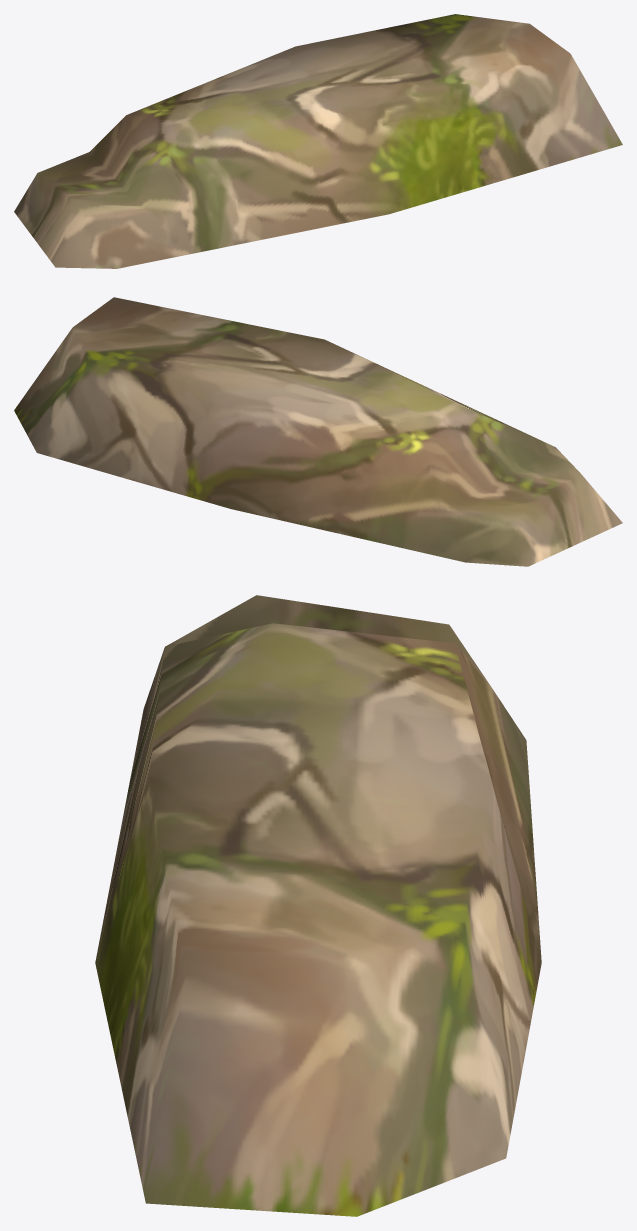
File: gjs_shitou02.FBX
The picture shows the model from 3 angles, top to bottom: view 1: azimuth 30°, elevation 25°; view 2: azimuth 150°, elevation 25°; view 3: azimuth 270°, elevation 25°; orthographic projection. The views are drawn at different scales.
Visible parts, largest first — view 1: shitou02; view 2: shitou02; view 3: shitou02.
Boxes of the visible parts, x1=… form: shitou02: x1=14, y1=14, x2=622, y2=268; shitou02: x1=14, y1=297, x2=622, y2=566; shitou02: x1=95, y1=595, x2=541, y2=1216.
Bounding box in the file's own units: 384 × 61.25 × 131.
